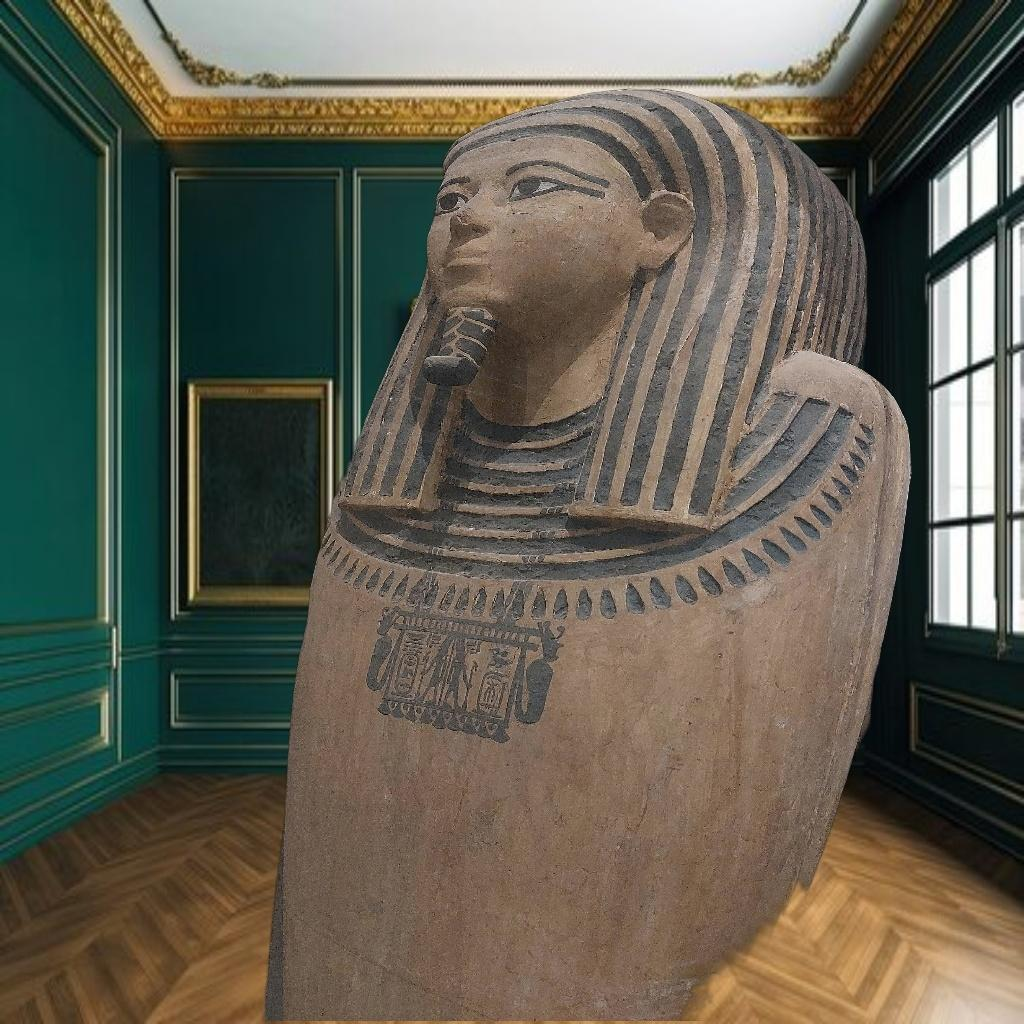Coffin of Ahmose I: (264, 86, 916, 1022)
